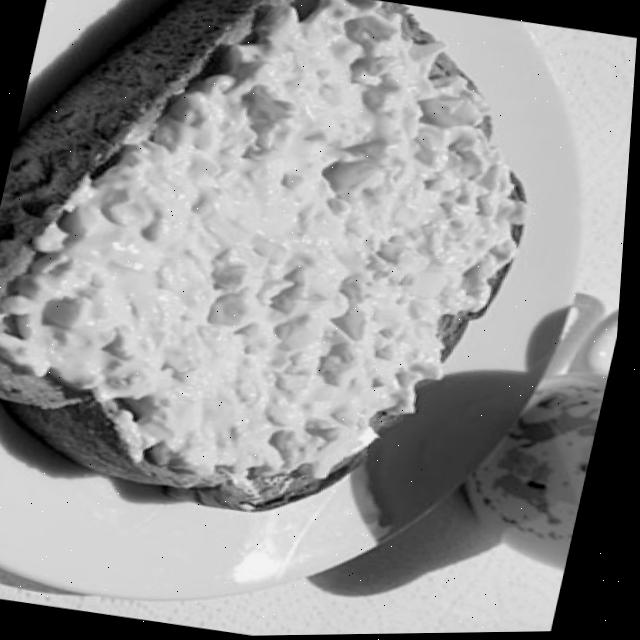面包点心: (0, 0, 565, 553)
